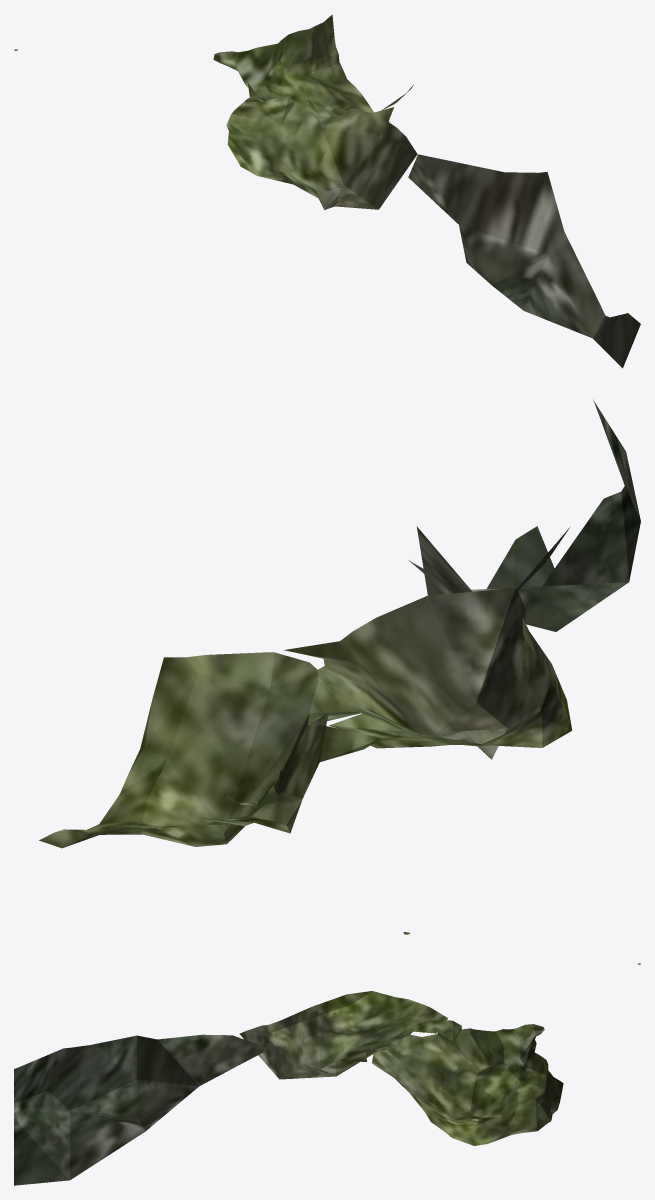
3 renders of one model, top to bottom at view 1: azimuth 30°, elevation 25°; view 2: azimuth 150°, elevation 25°; view 3: azimuth 270°, elevation 25°, orthographic. The views are drawn at different scales.
Size of the model in its own units: 1.32 by 0.5664 by 2.92.
1 material, 1 textured.
